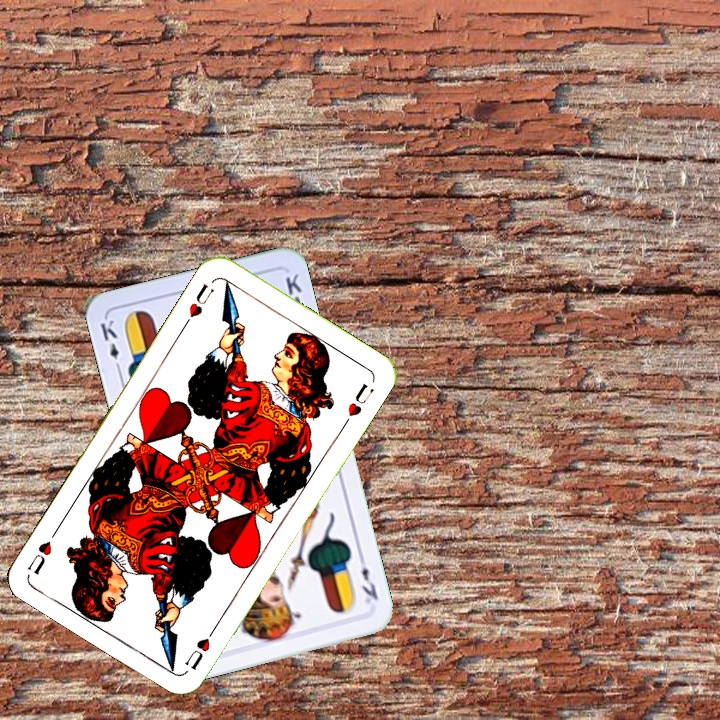EK: (96, 315, 124, 375), (355, 551, 381, 607)
HU: (180, 621, 220, 673), (179, 279, 217, 329)
